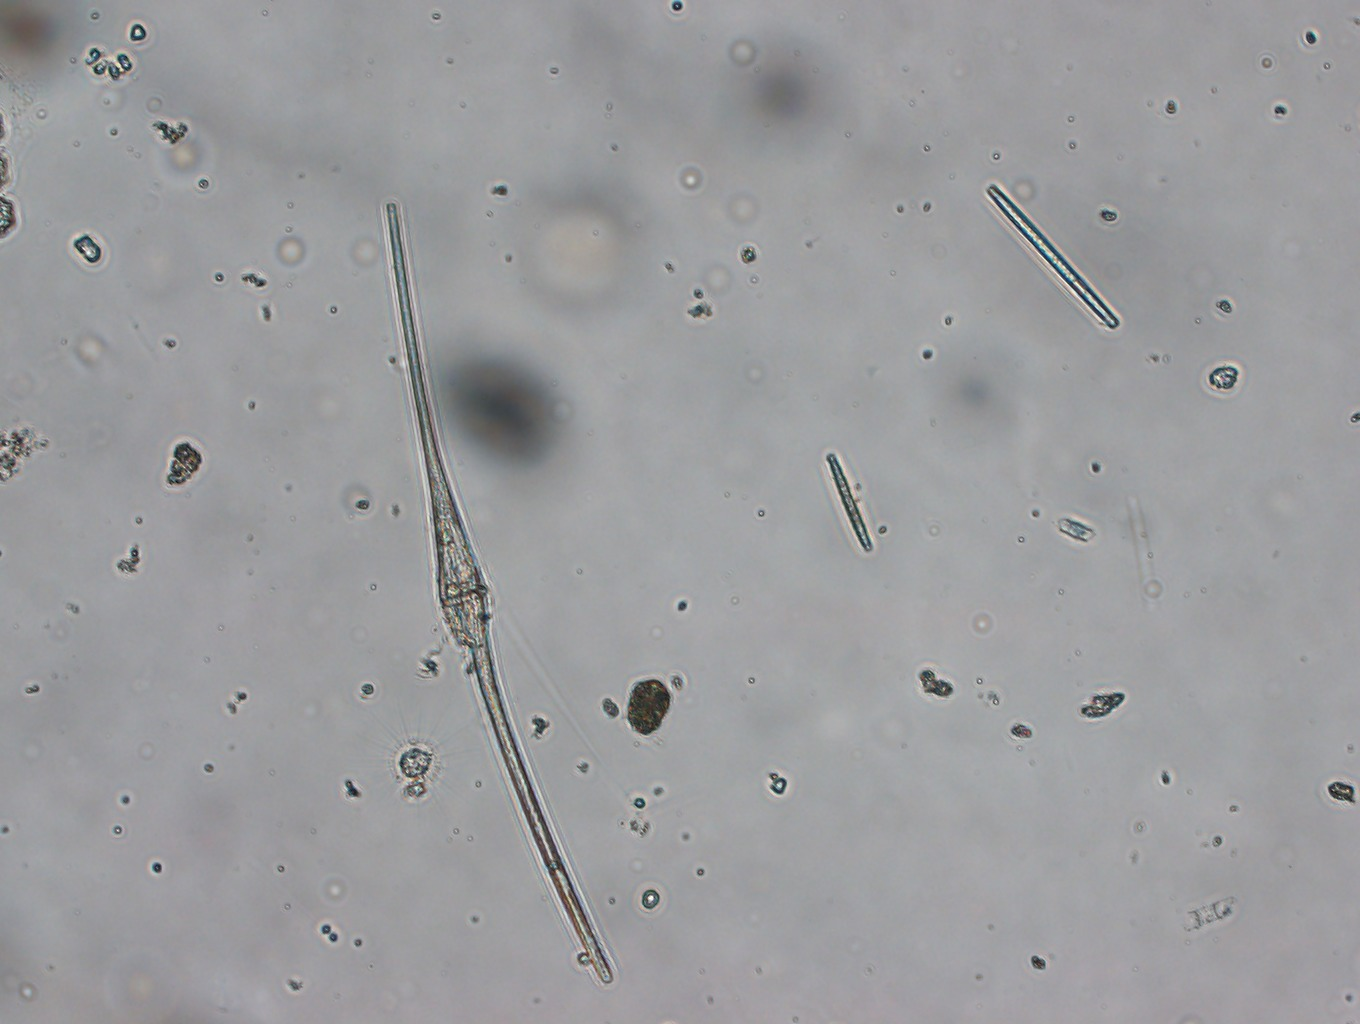ceratium fusus: (373, 184, 635, 991)
